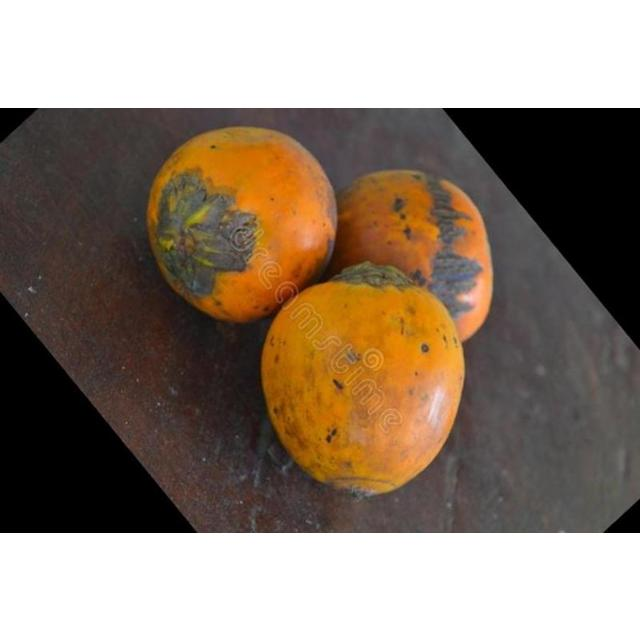good: (262, 263, 464, 493), (148, 125, 338, 322), (327, 168, 489, 342)
